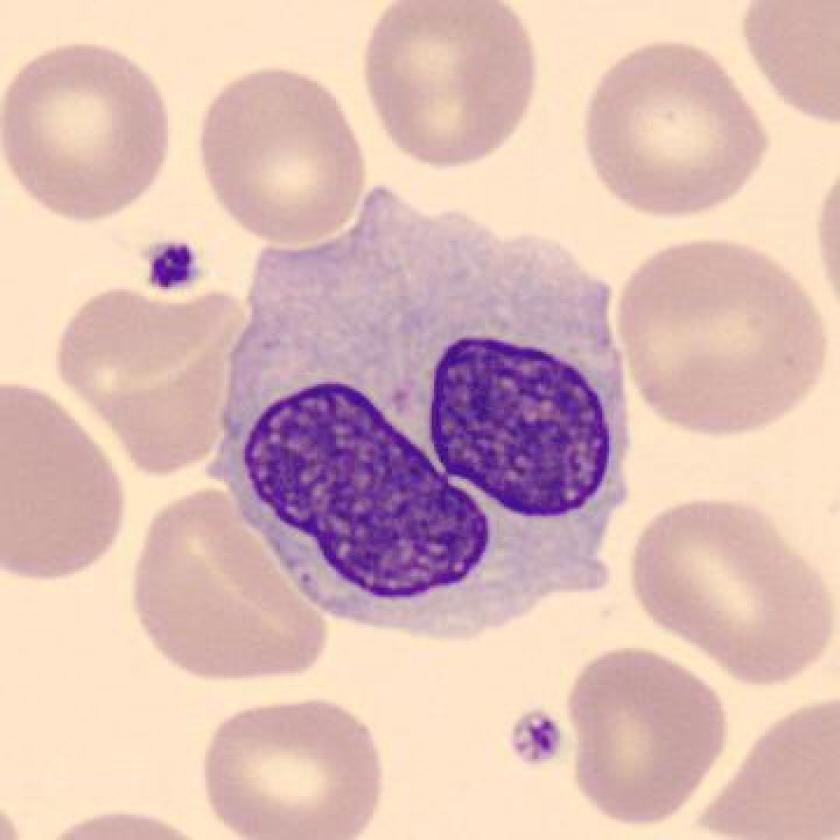monocyte: (195, 170, 664, 663)
